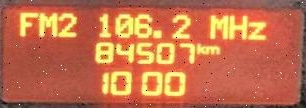-: (152, 27, 163, 39)
0: (162, 70, 186, 96), (109, 69, 132, 96), (140, 69, 163, 96), (111, 12, 133, 37), (154, 40, 175, 65)
1: (96, 11, 112, 38), (98, 69, 109, 95)
2: (170, 12, 192, 39), (58, 10, 77, 37)
4: (113, 41, 134, 63)
5: (135, 41, 153, 64)
6: (133, 12, 152, 39)
7: (177, 41, 195, 65)
8: (92, 40, 114, 64)
X: (209, 12, 228, 40), (37, 10, 56, 37), (18, 10, 37, 36), (228, 13, 246, 40), (247, 20, 265, 40), (204, 43, 220, 54), (196, 42, 205, 55)
